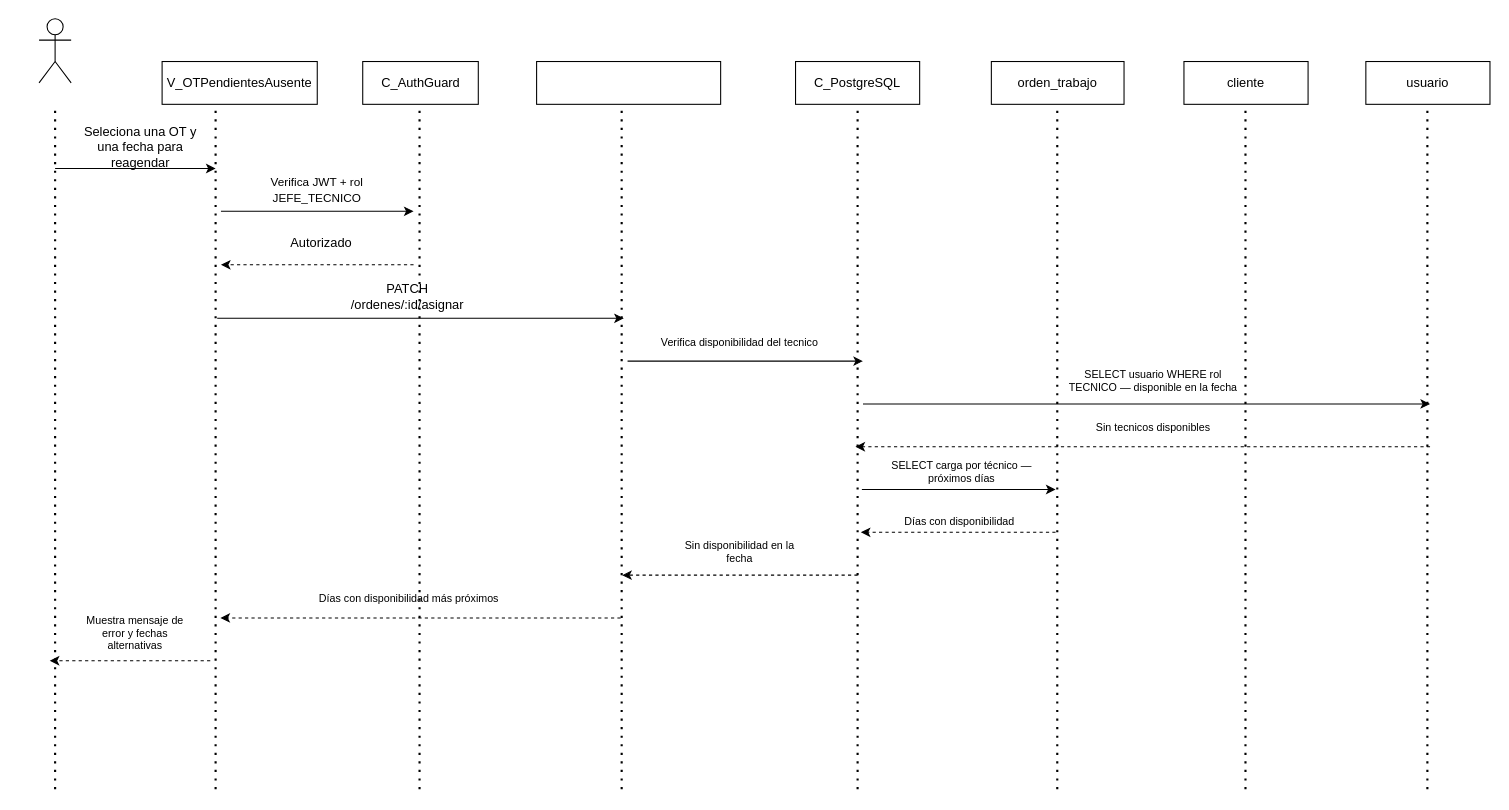
Some shapes in this 1509 by 810 pixel diagram are drawn without their labels. Each missing label, with the centre of its shape:
"C_OTController" belongs at pixel 628 82.
"Jefe Técnico" belongs at pixel 54 50.
